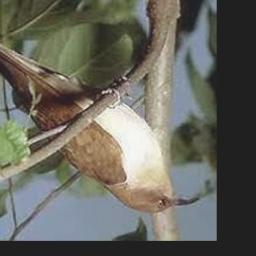Cuckoo: (0, 15, 201, 213)
